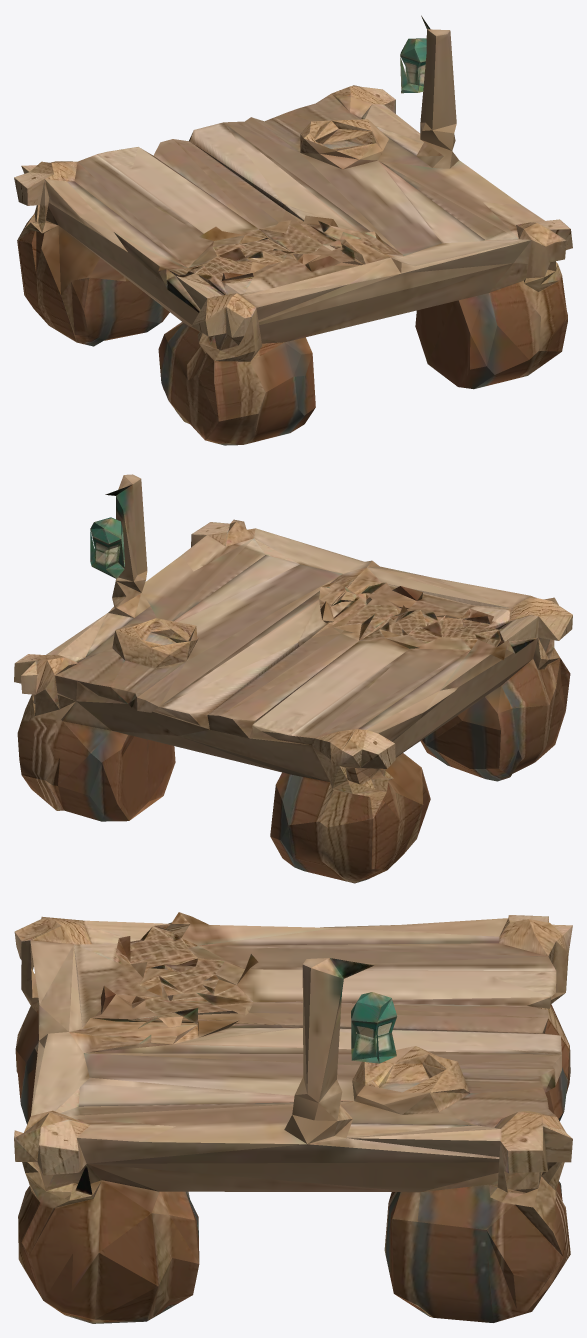
The model's file is raft.glb.
3 views of the same model, one above another, from view 1: azimuth 30°, elevation 25°; view 2: azimuth 150°, elevation 25°; view 3: azimuth 270°, elevation 25° (orthographic). The views are drawn at different scales.
Visible parts, largest first — view 1: raft; view 2: raft; view 3: raft.
Boxes of the visible parts, bbox=[...] form: raft: bbox=[14, 15, 572, 445]; raft: bbox=[14, 474, 572, 883]; raft: bbox=[14, 912, 572, 1323].
Bounding box in the file's own units: 1.9 × 1.36 × 1.9.
Materials: 1 (1 with a texture image).
